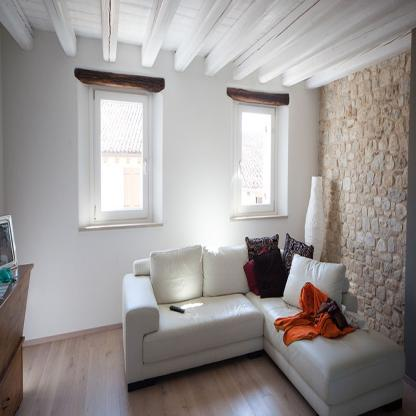Window: (91, 85, 151, 222), (234, 98, 277, 218)
